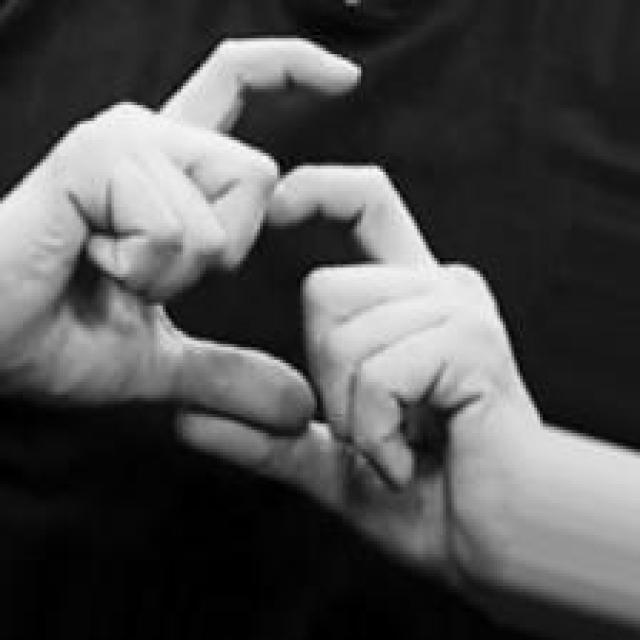G: (1, 33, 542, 590)
